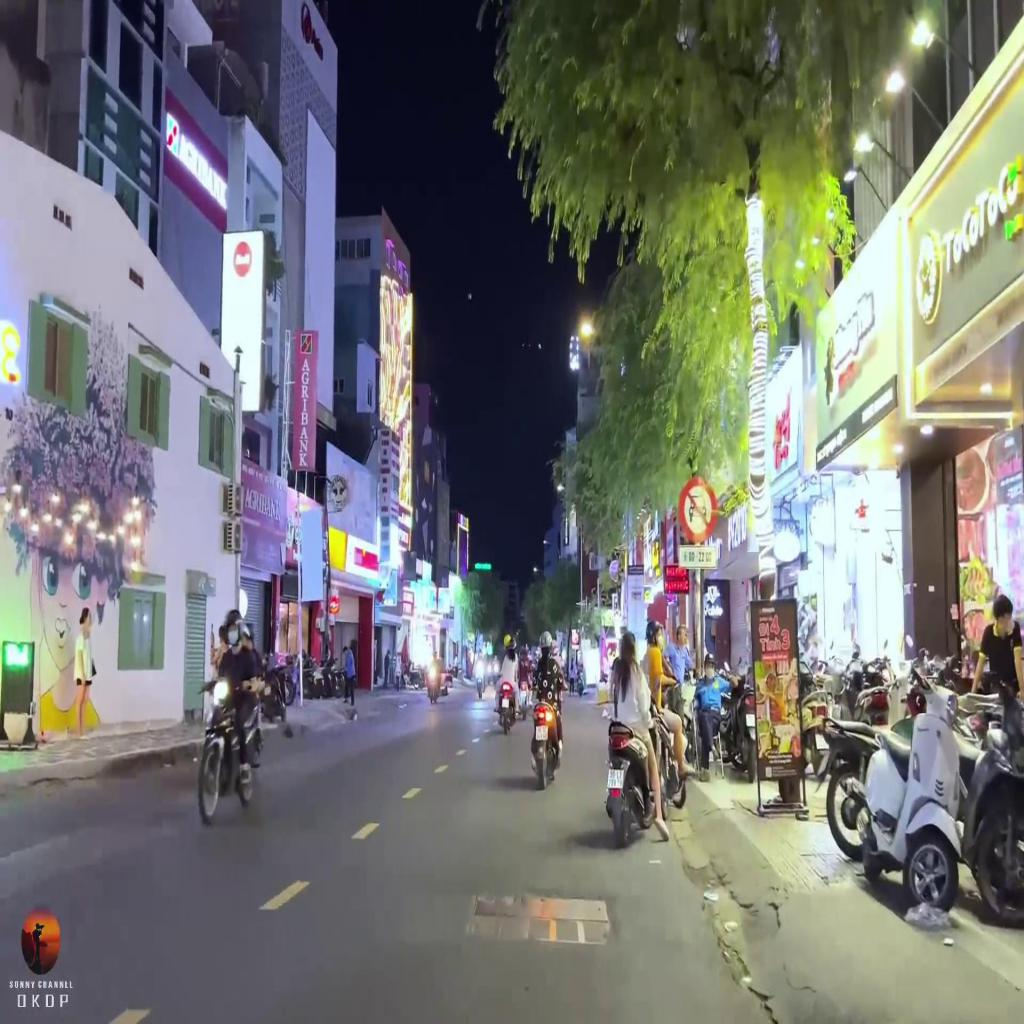cam_o_to: (679, 476, 717, 542)
khac: (680, 544, 717, 568)
